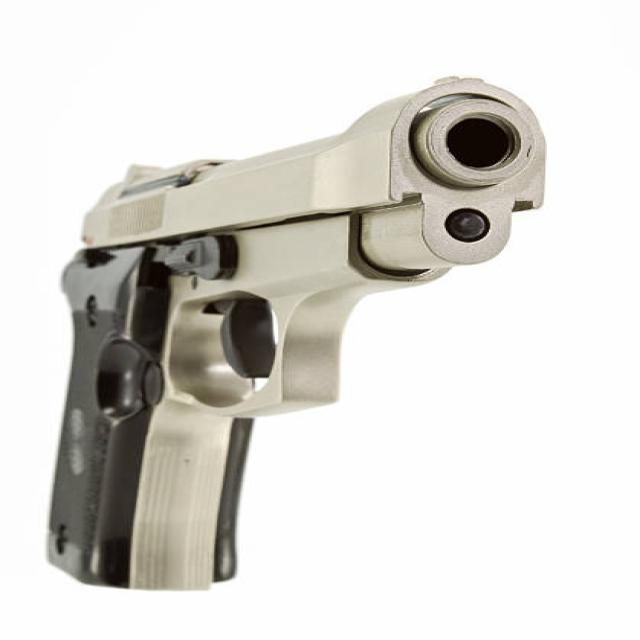pistol: (39, 70, 561, 595)
